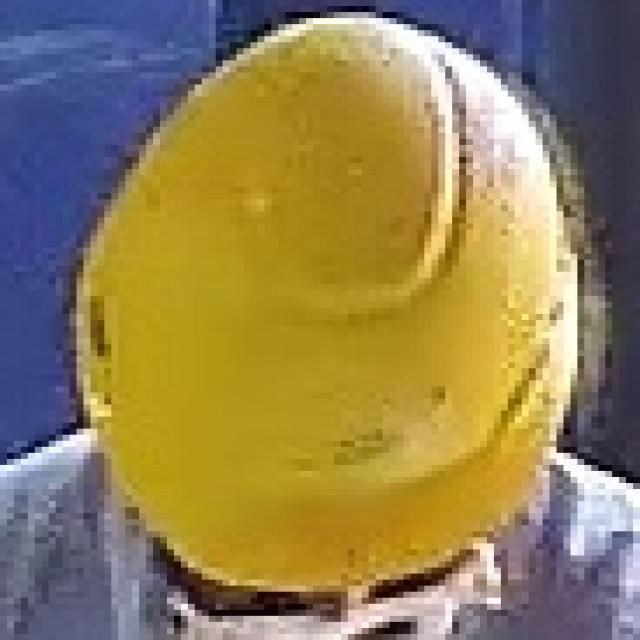yellow helmet: (65, 15, 583, 591)
